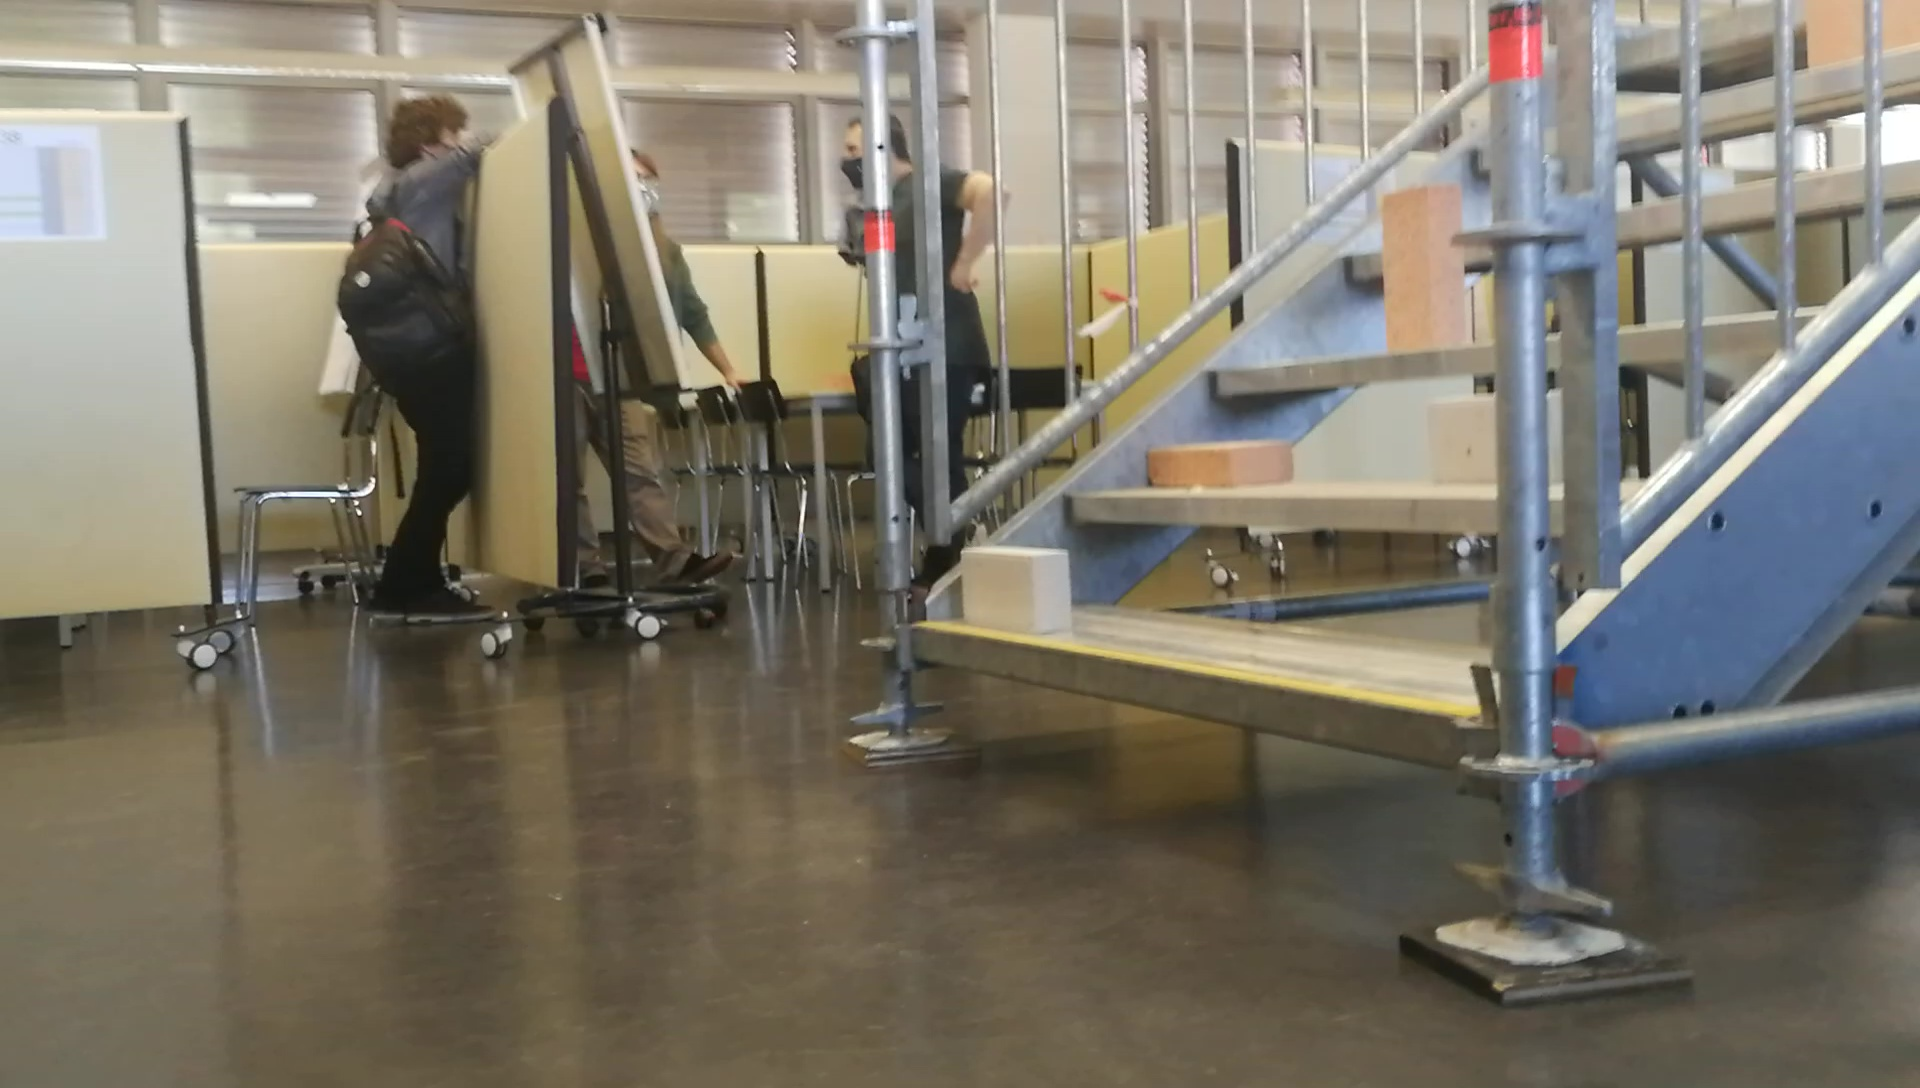brick: (1381, 187, 1462, 349), (963, 549, 1071, 630), (1429, 400, 1495, 485), (1147, 440, 1283, 481)
edge: (910, 622, 1456, 783)
stairs: (849, 3, 1560, 1005)
